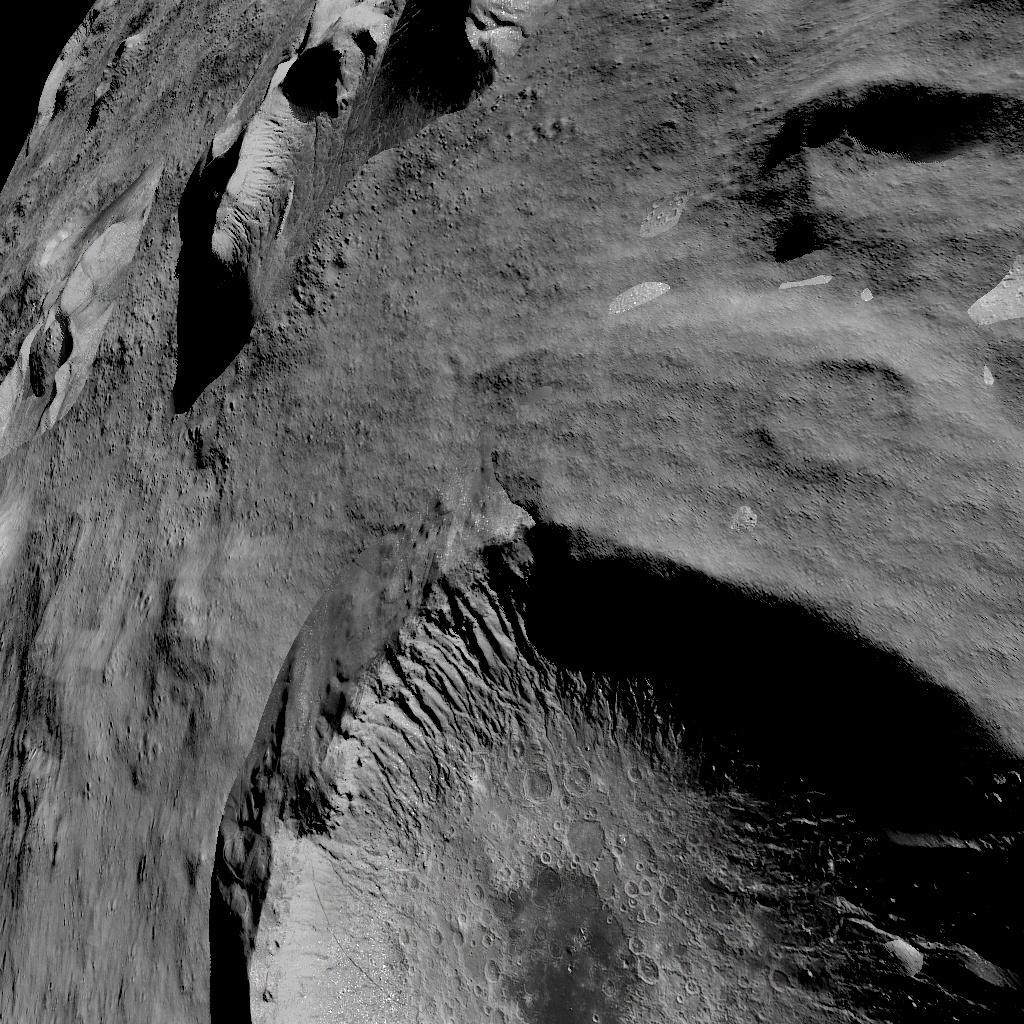Boulders: (156, 2, 540, 408), (3, 150, 135, 433)
Crater: (195, 506, 1024, 1024), (735, 56, 1024, 265), (737, 352, 906, 489)
Plan surface: (7, 450, 176, 1024)
